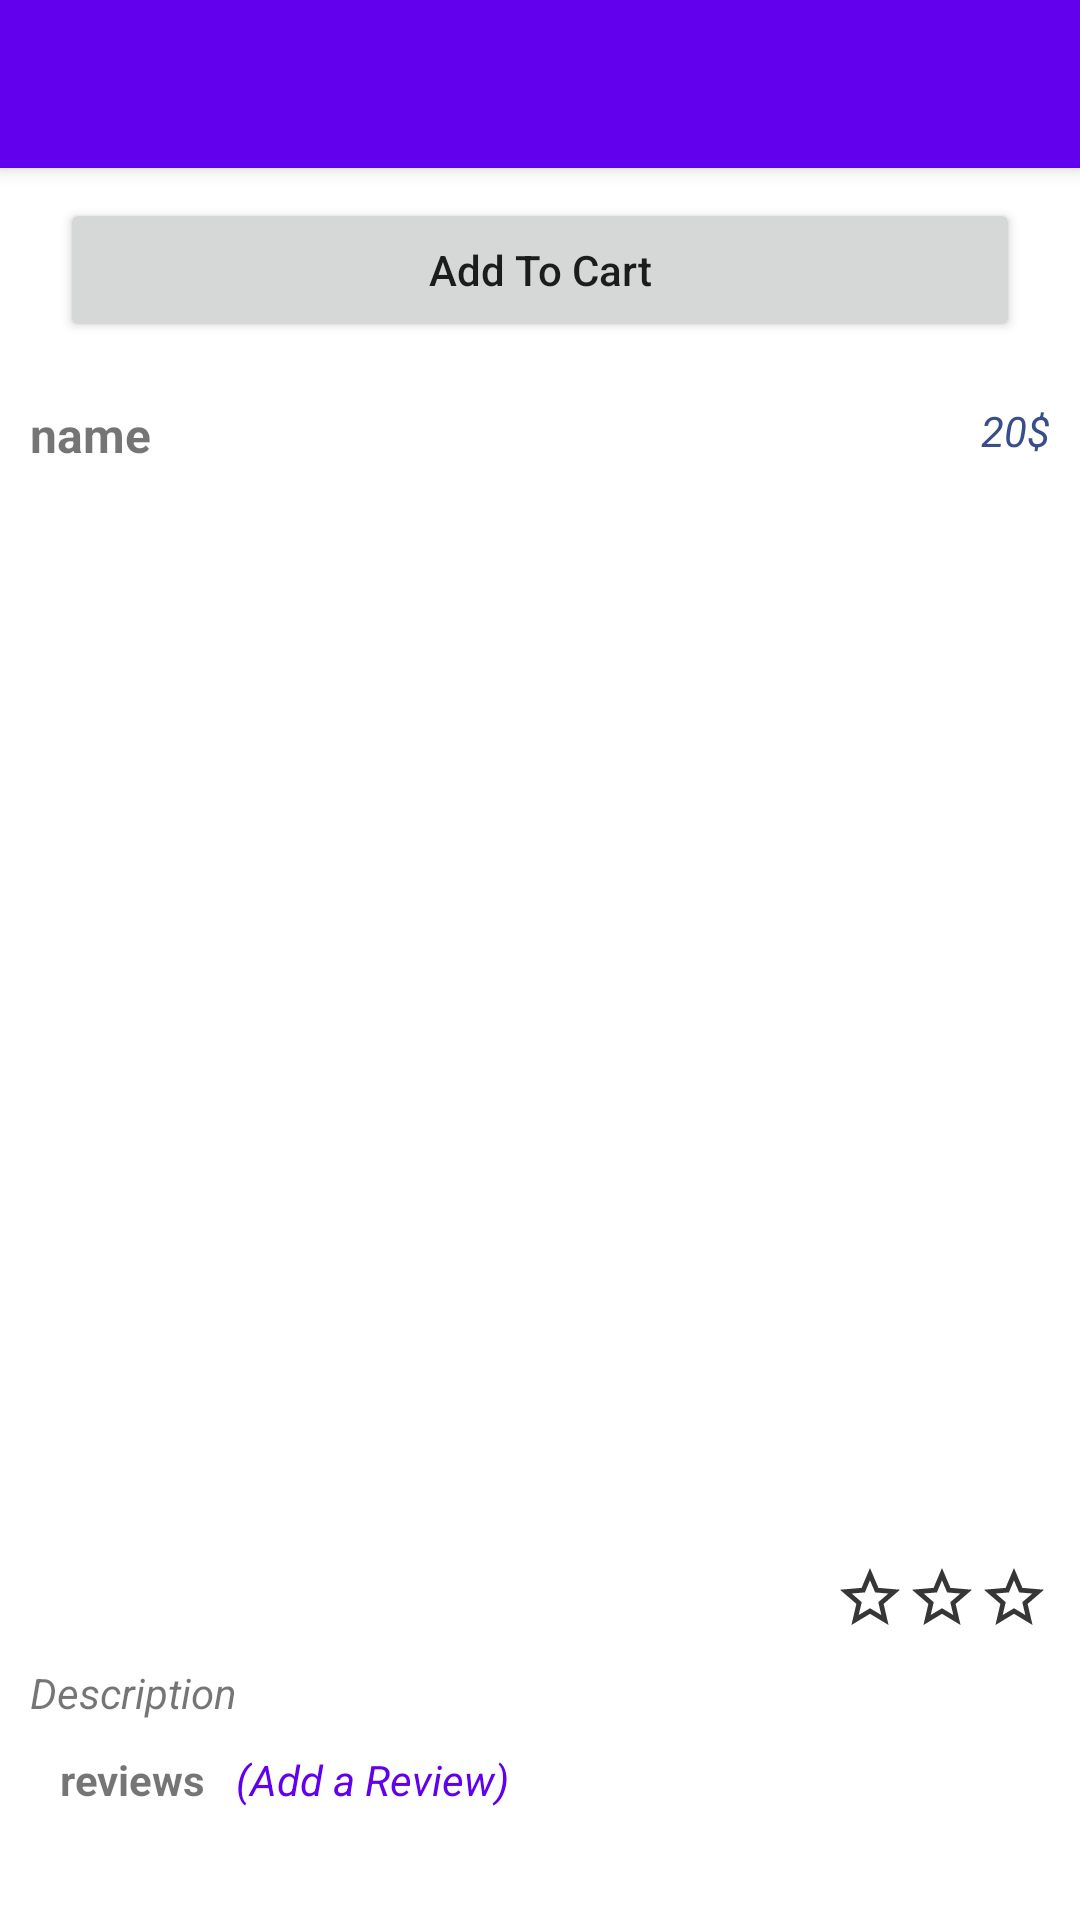

Screen size 1080w x 1920h. Icon name, then its center in pixels as (x,y):
empty star: (870,1596), (942,1596), (1014,1596)
